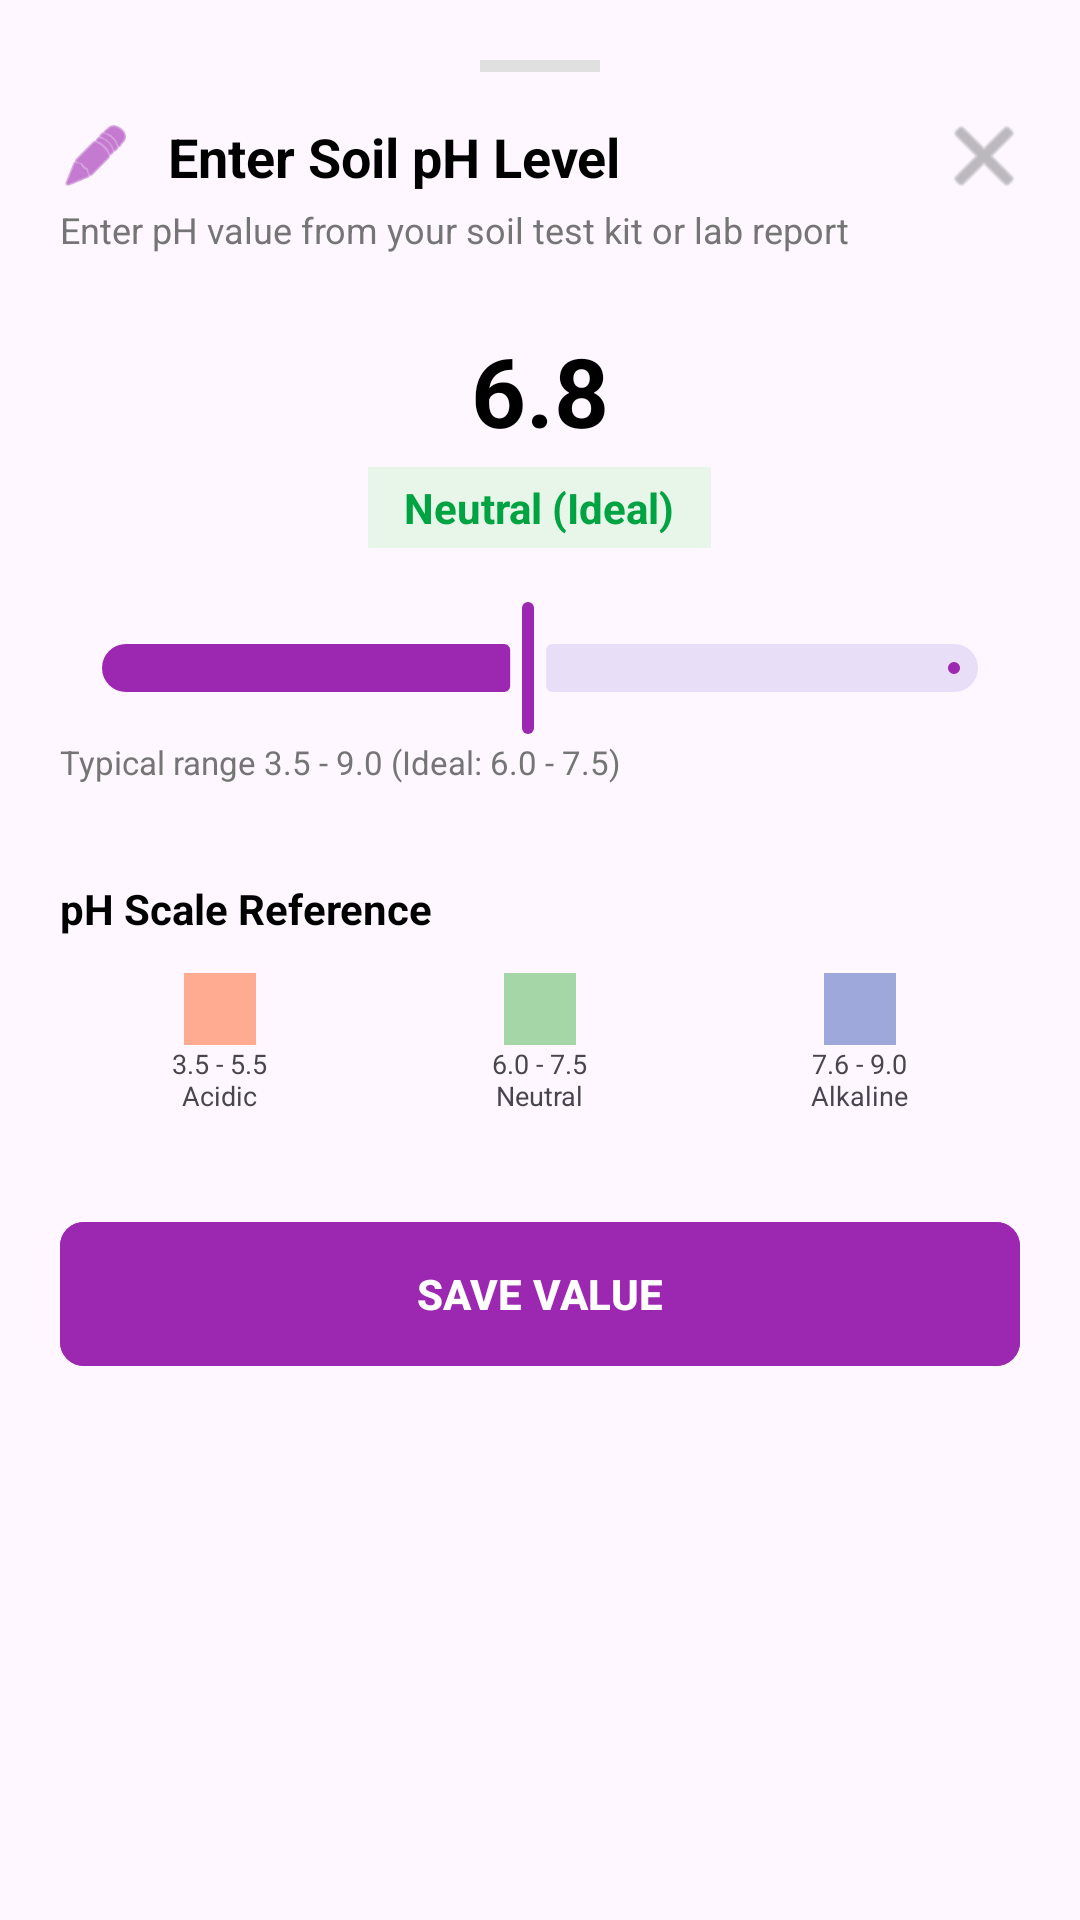

Icons on this 1080px x 1920px Android screen, each with the point to tap as (x=x, y=y):
close clear cancel: (x=984, y=156)
edit: (x=95, y=155)
